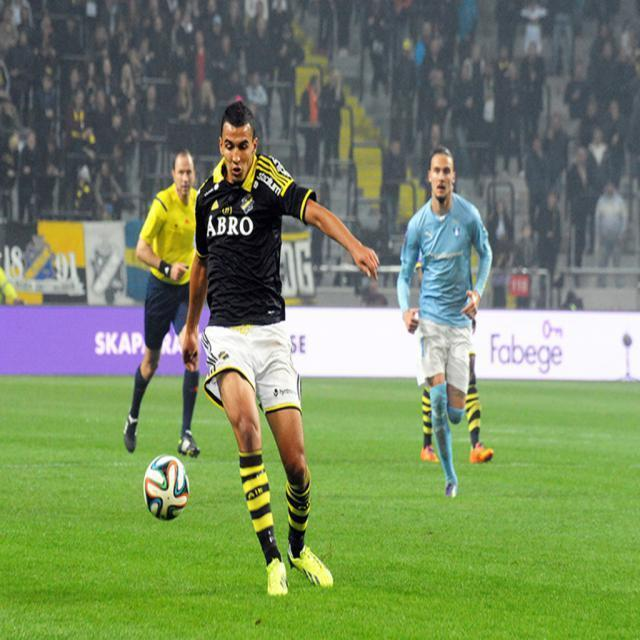ball: (140, 451, 189, 522)
